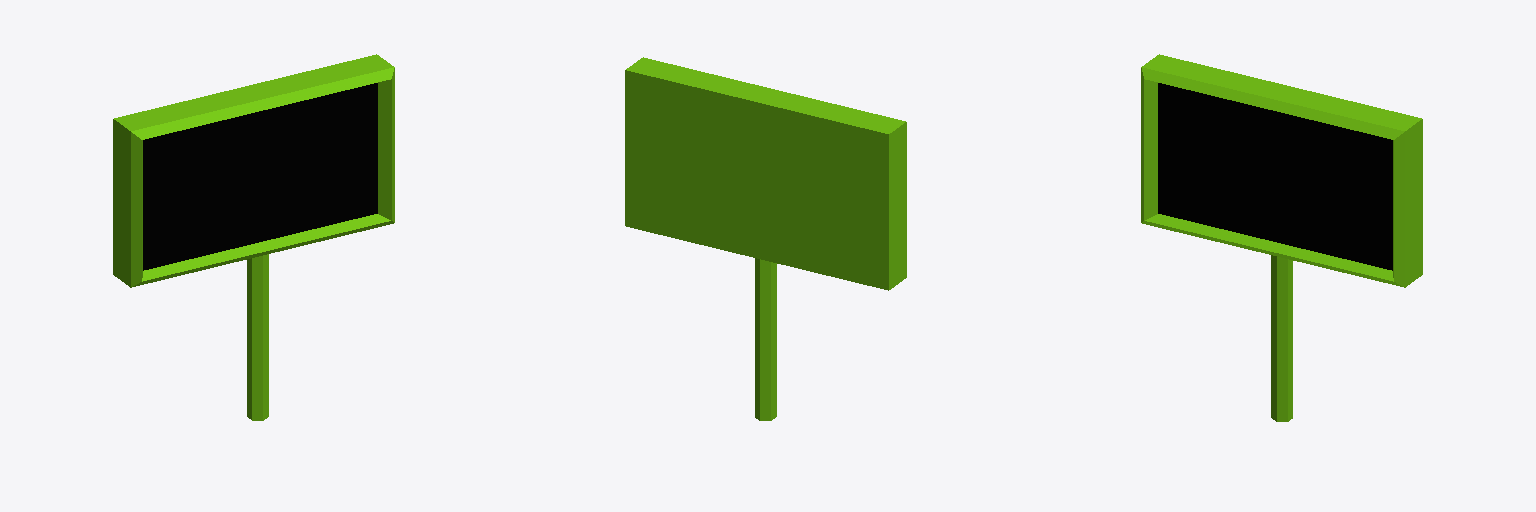
The model's file is cartel.obj.
The picture shows the model from 3 angles: view 1: azimuth 30°, elevation 25°; view 2: azimuth 150°, elevation 25°; view 3: azimuth 330°, elevation 25°; orthographic projection.
Parts seen in each view (by area): view 1: Cube.001; view 2: Cube.001; view 3: Cube.001.
Boxes of the visible parts, <box> form: Cube.001: <box>113,54,394,420</box>; Cube.001: <box>625,57,906,420</box>; Cube.001: <box>1141,54,1422,421</box>.
Size of the model in its own units: 3.53 by 4.14 by 0.5023.